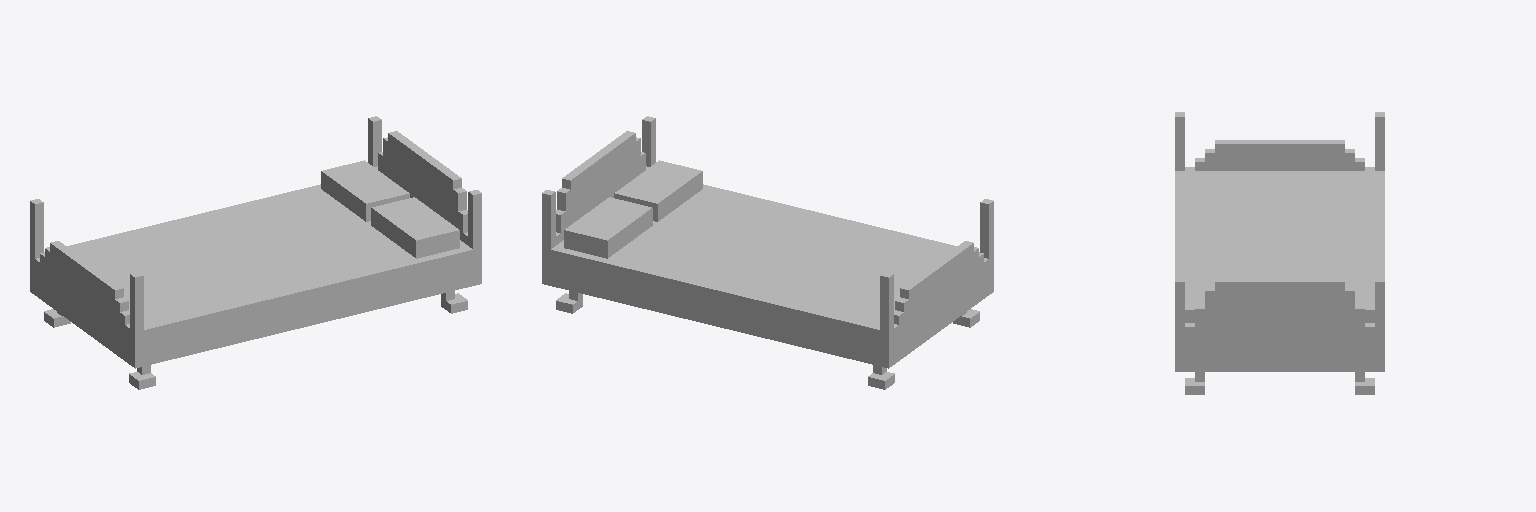
File: Bed.obj
3 renders of one model, left to right at view 1: azimuth 30°, elevation 25°; view 2: azimuth 150°, elevation 25°; view 3: azimuth 270°, elevation 25°, orthographic.
Visible parts, largest first — view 1: object 1; view 2: object 1; view 3: object 1.
Boxes of the visible parts, <box> form: object 1: <box>30,116,481,389</box>; object 1: <box>542,116,993,389</box>; object 1: <box>1175,112,1384,394</box>.
Size of the model in its own units: 4 by 1.3 by 2.1.